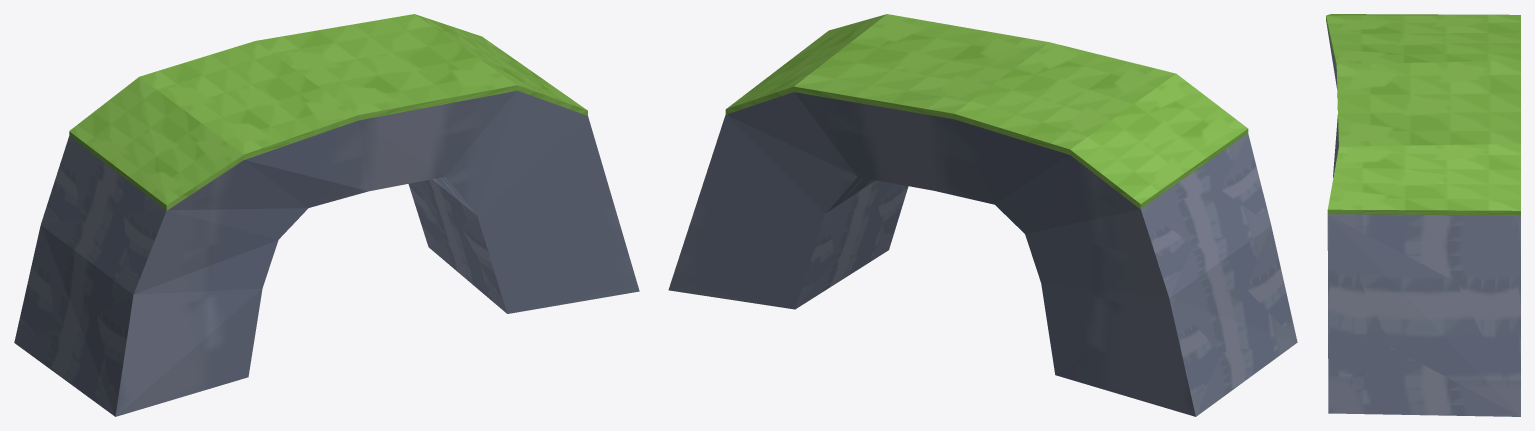
The model's file is sea_arch.glb.
The picture shows the model from 3 angles, left to right: view 1: azimuth 30°, elevation 25°; view 2: azimuth 150°, elevation 25°; view 3: azimuth 270°, elevation 25°; orthographic projection. The views are drawn at different scales.
Parts seen in each view (by area): view 1: beach_sea_arch; view 2: beach_sea_arch; view 3: beach_sea_arch.
Boxes of the visible parts, x1,y1,x2,y2 form: beach_sea_arch: (14, 14, 639, 416); beach_sea_arch: (668, 14, 1297, 416); beach_sea_arch: (1326, 14, 1520, 416).
Bounding box in the file's own units: 13 × 5.8 × 4.5.
2 materials, 2 textured.
